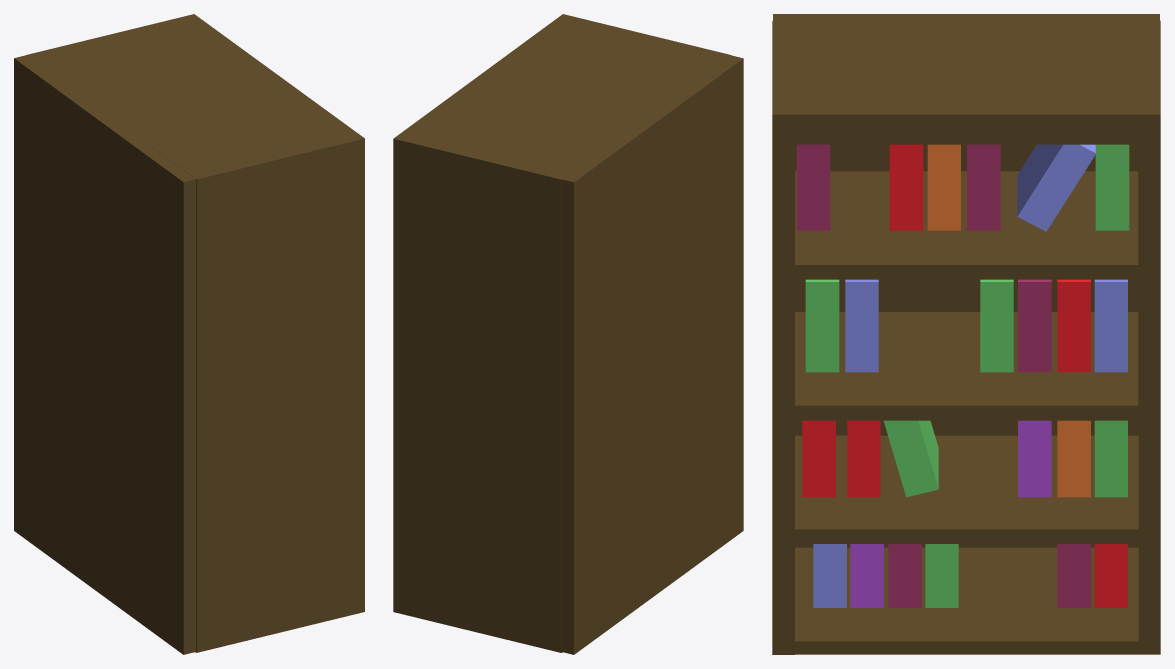
Rendered from LibreriaEnemigoModelo.fbx.
3 renders of one model, left to right at view 1: azimuth 30°, elevation 25°; view 2: azimuth 150°, elevation 25°; view 3: azimuth 270°, elevation 25°, orthographic. The views are drawn at different scales.
Parts seen in each view (by area): view 1: Cube.002, Cubo.003; view 2: Cube.002, Cubo.003; view 3: Cube.002, Cubo, Cubo.001, Cubo.002, Cubo.003, Cubo.024, Cubo.022, Cubo.011, Cubo.016, Cubo.018, Cubo.019, Cubo.020 (+17 smaller).
Boxes of the visible parts, <box> form: Cube.002: <box>26,14,364,652</box>; Cubo.003: <box>14,55,195,654</box>; Cube.002: <box>393,14,730,652</box>; Cubo.003: <box>562,55,743,654</box>; Cube.002: <box>772,20,1160,654</box>; Cubo: <box>794,312,1138,420</box>; Cubo.001: <box>794,171,1138,279</box>; Cubo.002: <box>795,435,1138,543</box>; Cubo.003: <box>773,14,1159,547</box>; Cubo.024: <box>1017,144,1096,231</box>; Cubo.022: <box>805,279,839,372</box>; Cubo.011: <box>883,420,938,497</box>; Cubo.016: <box>1018,279,1051,372</box>; Cubo.018: <box>1057,279,1090,372</box>; Cubo.019: <box>980,279,1013,372</box>; Cubo.020: <box>845,279,878,372</box>.
Size of the model in its own units: 2.15 by 5.37 by 3.5.
